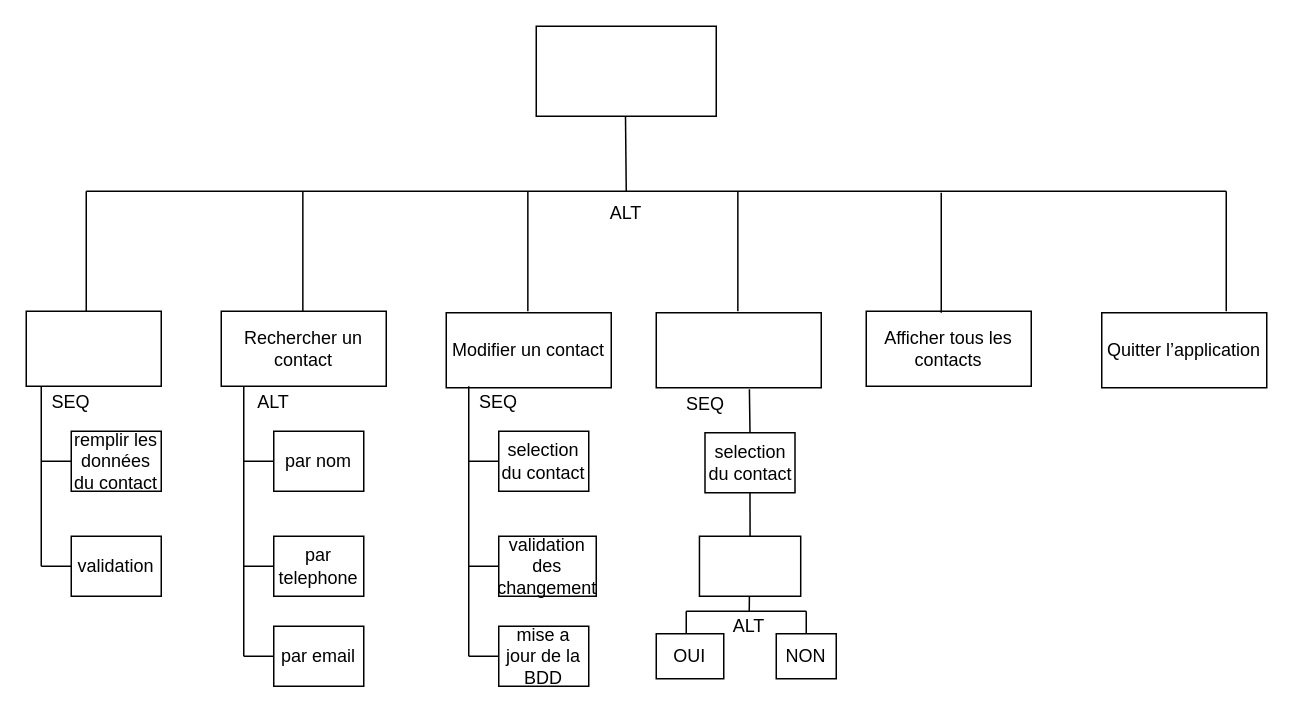
Image size: 1293x714. Some labels were removed from this diagram. Here are the shapes that lost their labels. From the top down, the box of each, then its label:
(535, 25, 716, 116): gérer ses contacts personnels
(25, 310, 161, 386): Ajouter un contact
(655, 311, 821, 388): Supprimer un contact
(698, 535, 801, 596): message de confirmation
